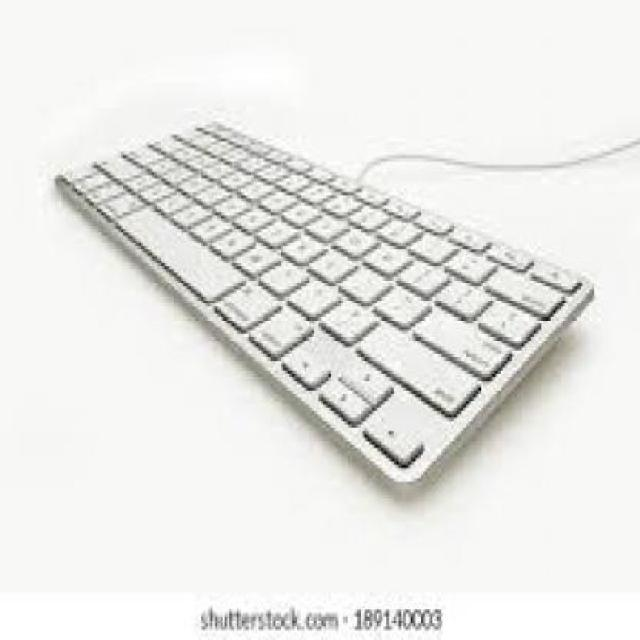keyboard: (44, 115, 598, 494)
